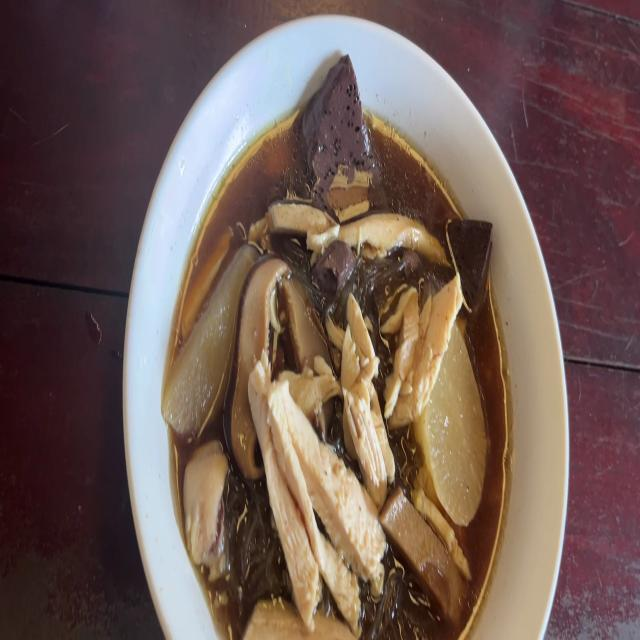boiled_chicken_blood_jelly: (306, 59, 382, 211), (456, 209, 494, 312), (317, 238, 364, 292)
chicken_shredded: (254, 368, 386, 613), (262, 197, 450, 266), (333, 298, 385, 504), (388, 273, 460, 414), (178, 437, 234, 569), (248, 595, 354, 640)
daikon_radish: (163, 243, 236, 424), (434, 354, 489, 508)
noodle: (170, 112, 502, 640)
